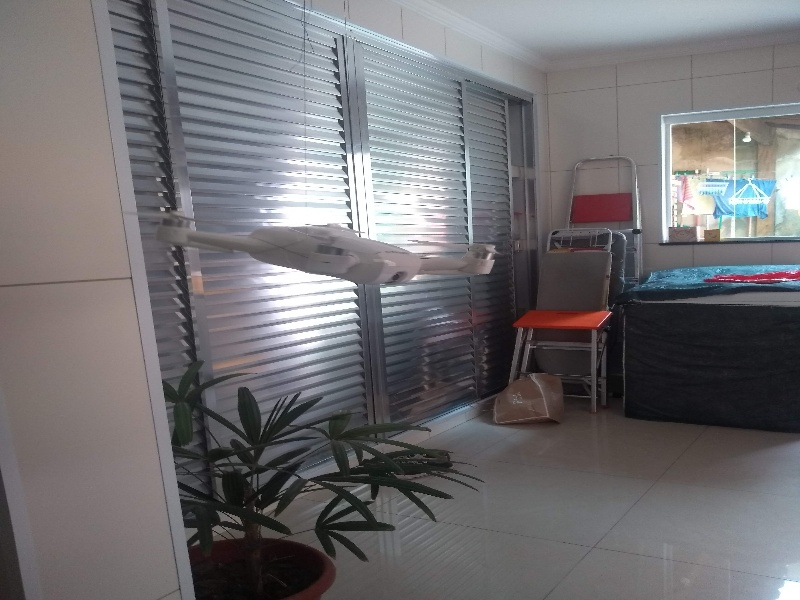drone: (139, 196, 507, 310)
